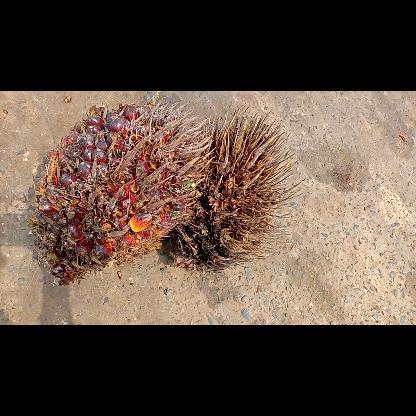Janjang kosong: (157, 106, 304, 274)
TBS masak: (28, 96, 214, 286)
